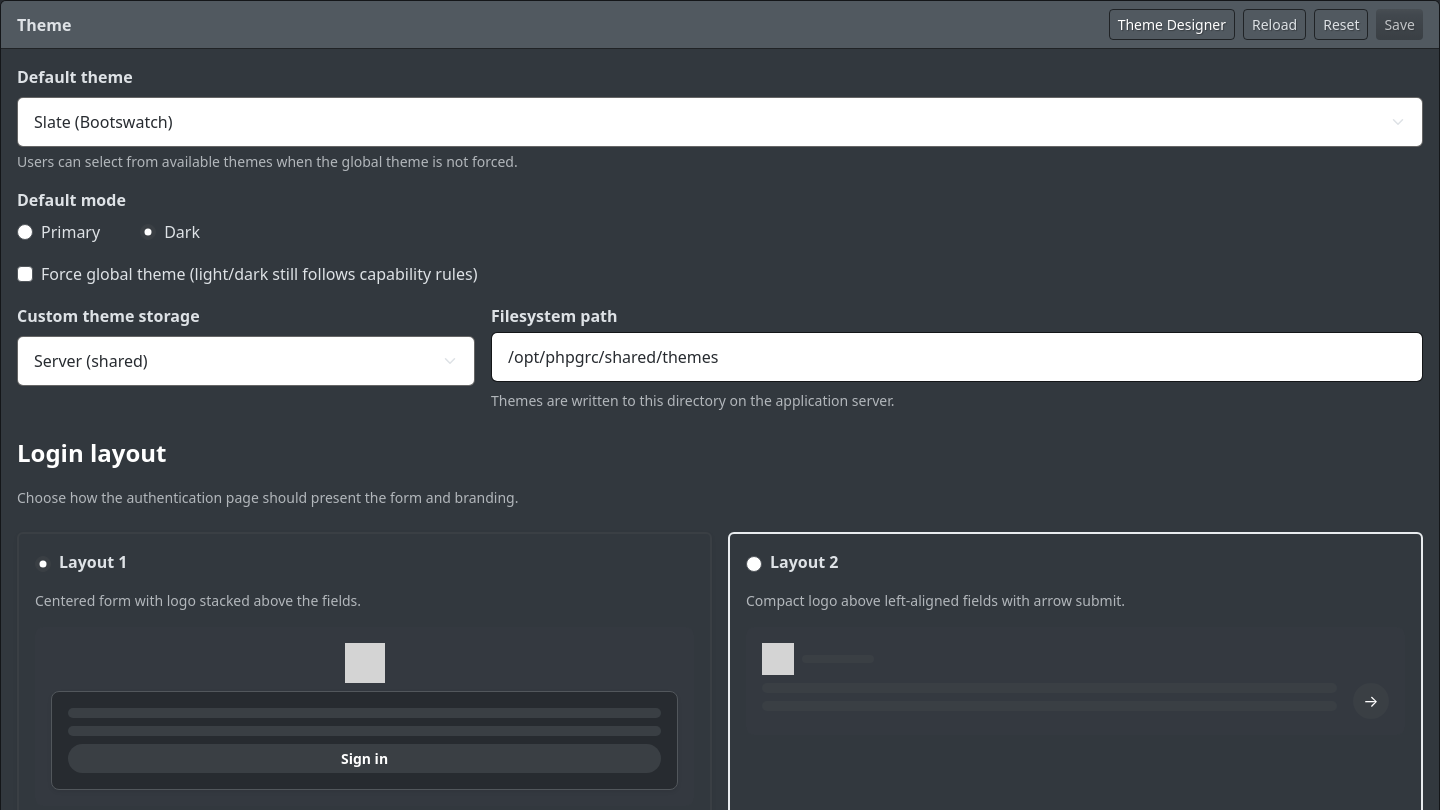
ThemeConfigurator › allows selecting a default mode
Select "Flatly (Bootswatch)" in the dropdown labelled "Default theme" at (720, 122), box [17,97,1423,147]
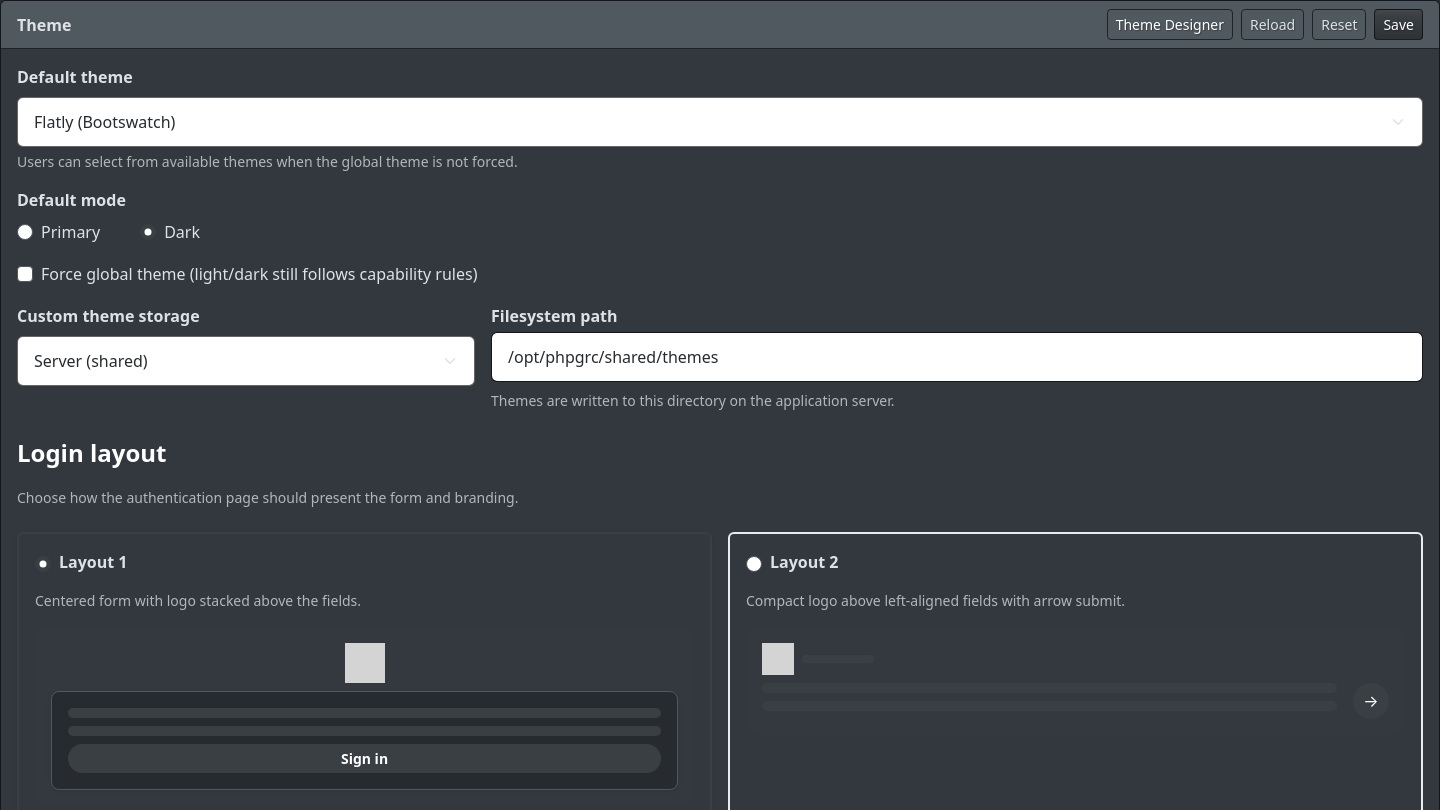
Click the radio button labelled "Primary" at (25, 232), box [17,224,33,240]
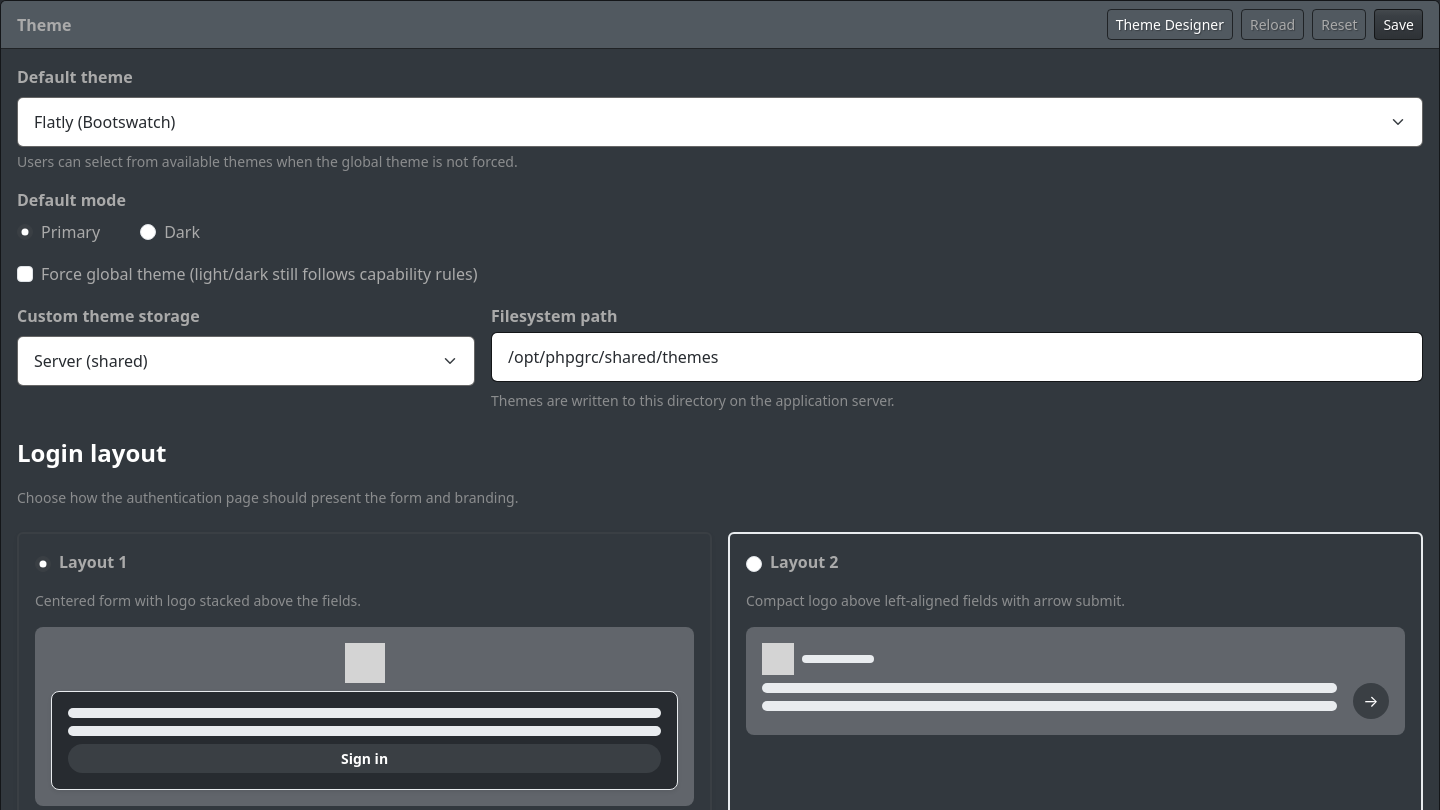
Click the button "Save" at (1399, 24), box [1374,9,1423,40]
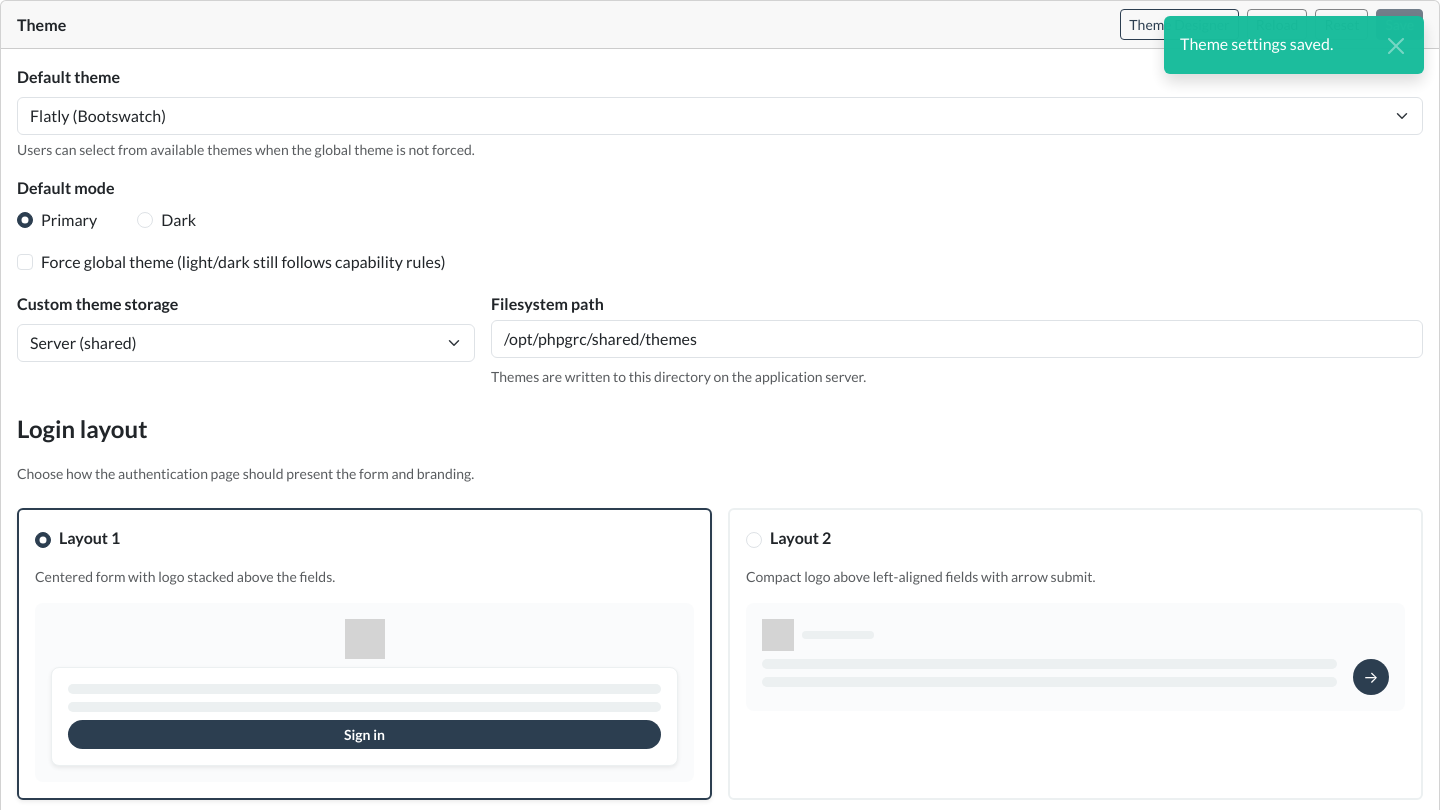
Result: the text "Theme settings saved." is shown at [1180,34,1333,53]
